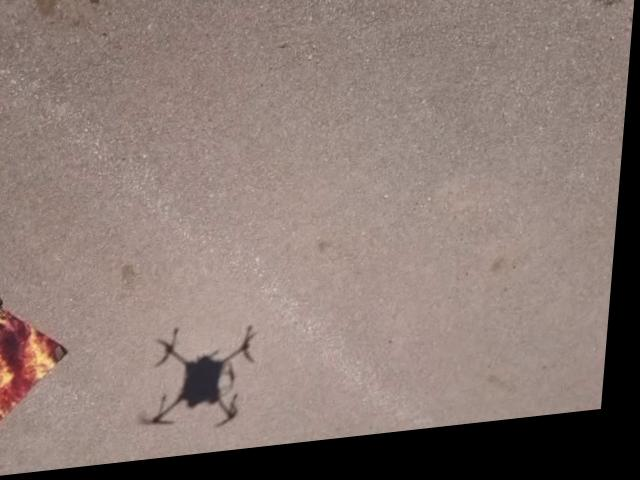fire-poster: (0, 287, 79, 453)
